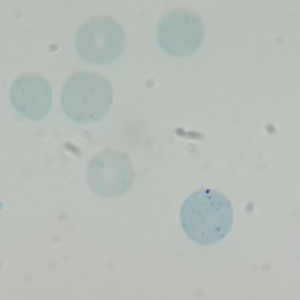erythrocyte: (73, 16, 126, 66), (84, 149, 135, 200), (155, 9, 206, 59)
punctate reticulocyte: (178, 187, 234, 247), (58, 71, 113, 124), (8, 73, 54, 122)
